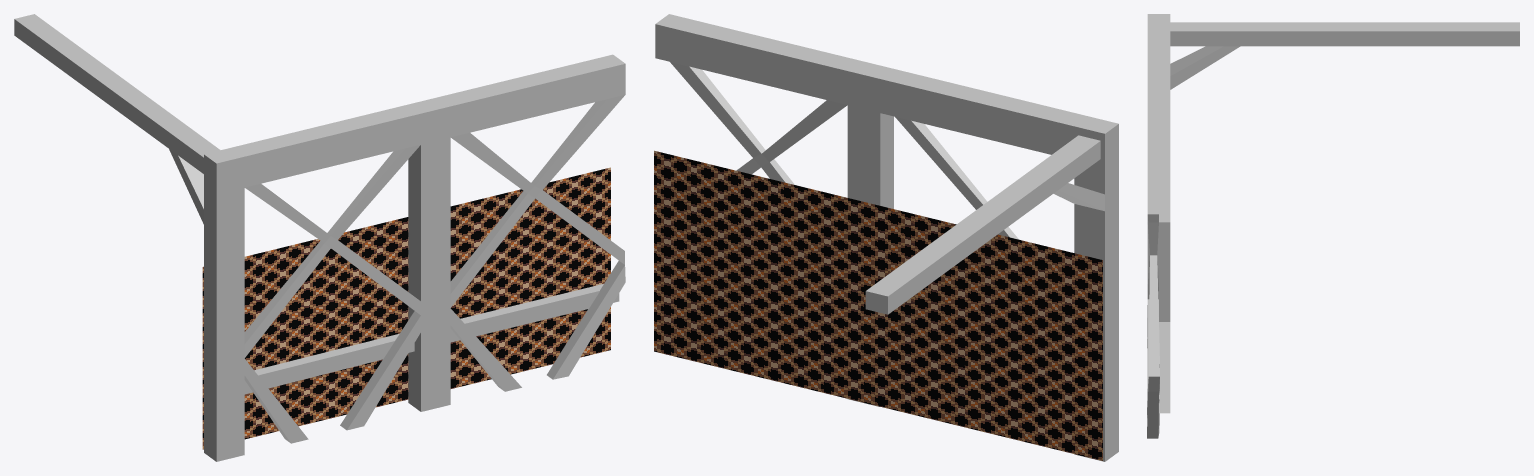
File: bridgebeams.obj
3 views of the same model, side by side, from view 1: azimuth 30°, elevation 25°; view 2: azimuth 150°, elevation 25°; view 3: azimuth 270°, elevation 25° (orthographic). The views are drawn at different scales.
Visible parts, largest first — view 1: bridge_beams_Cube.021, grate_Plane; view 2: grate_Plane, bridge_beams_Cube.021; view 3: bridge_beams_Cube.021.
Part boxes in pixels (bbox=[...]): bridge_beams_Cube.021: bbox=[14, 14, 625, 461]; grate_Plane: bbox=[202, 167, 610, 449]; grate_Plane: bbox=[654, 150, 1102, 460]; bridge_beams_Cube.021: bbox=[655, 14, 1118, 461]; bridge_beams_Cube.021: bbox=[1147, 14, 1519, 438].
Size of the model in its own units: 15.68 by 10.93 by 13.71.
